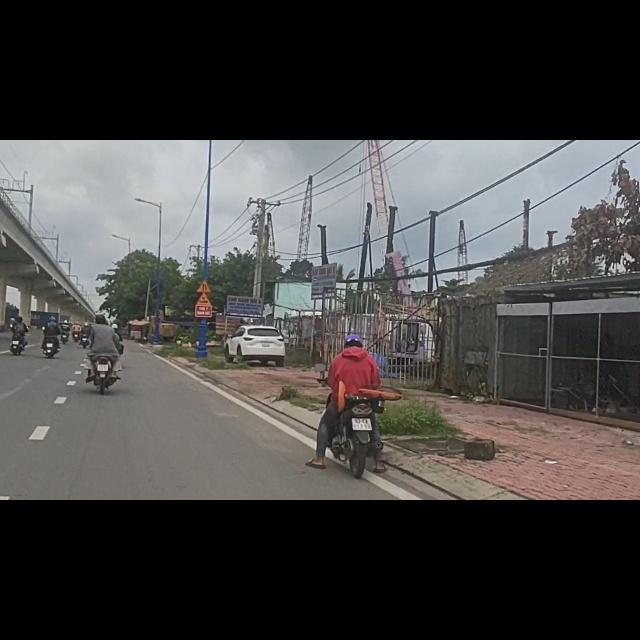bien_nguy_hiem: (196, 271, 213, 293), (196, 247, 211, 270)
